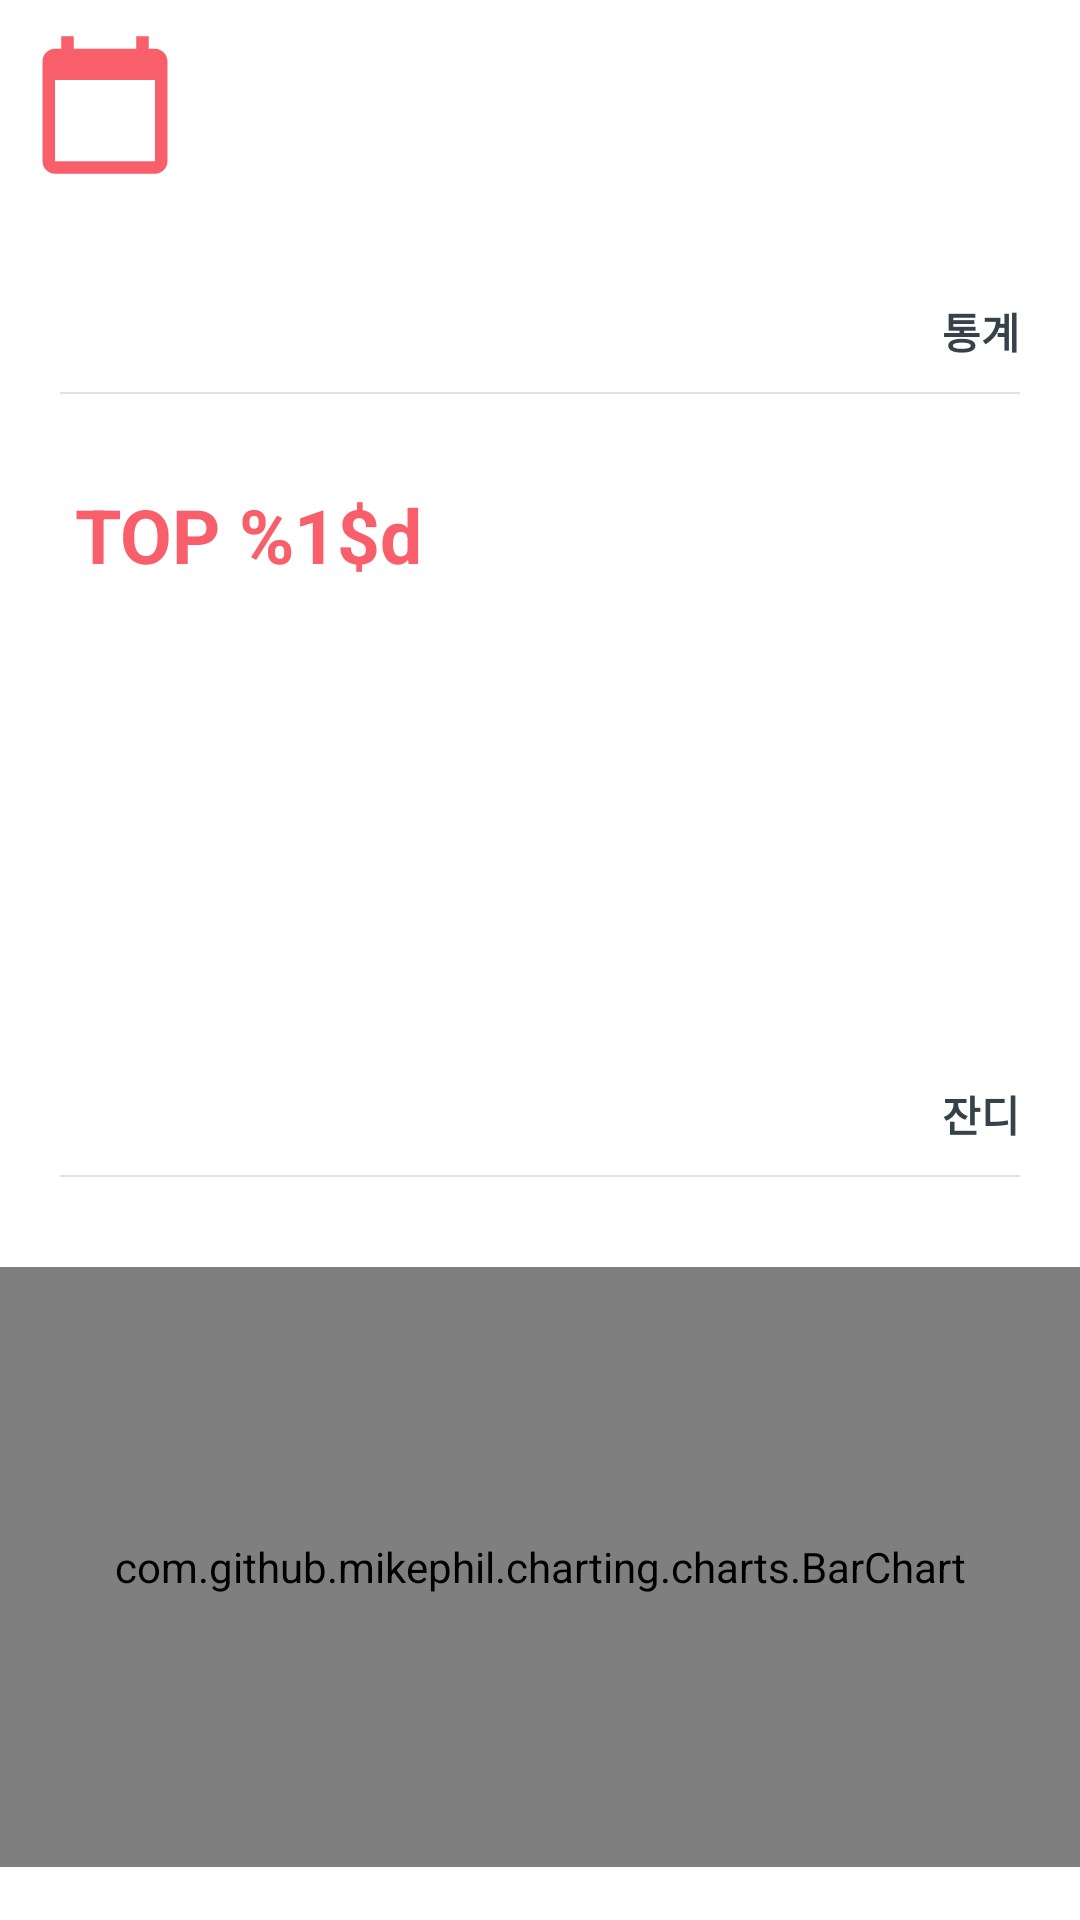

Icons on this 1080w x 1920h Android screen, each with the point to tap as point (x, y):
calendar: point (105, 105)
